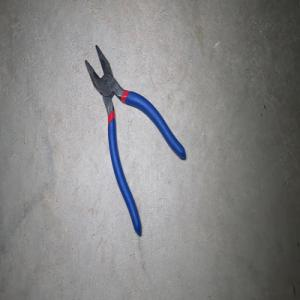Pliers: (84, 44, 186, 236)
